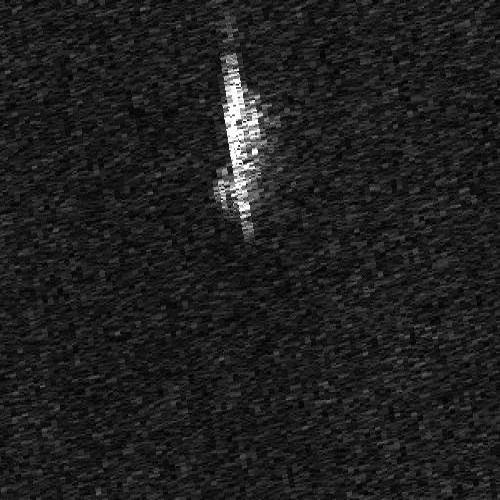ship: (214, 52, 263, 231)
